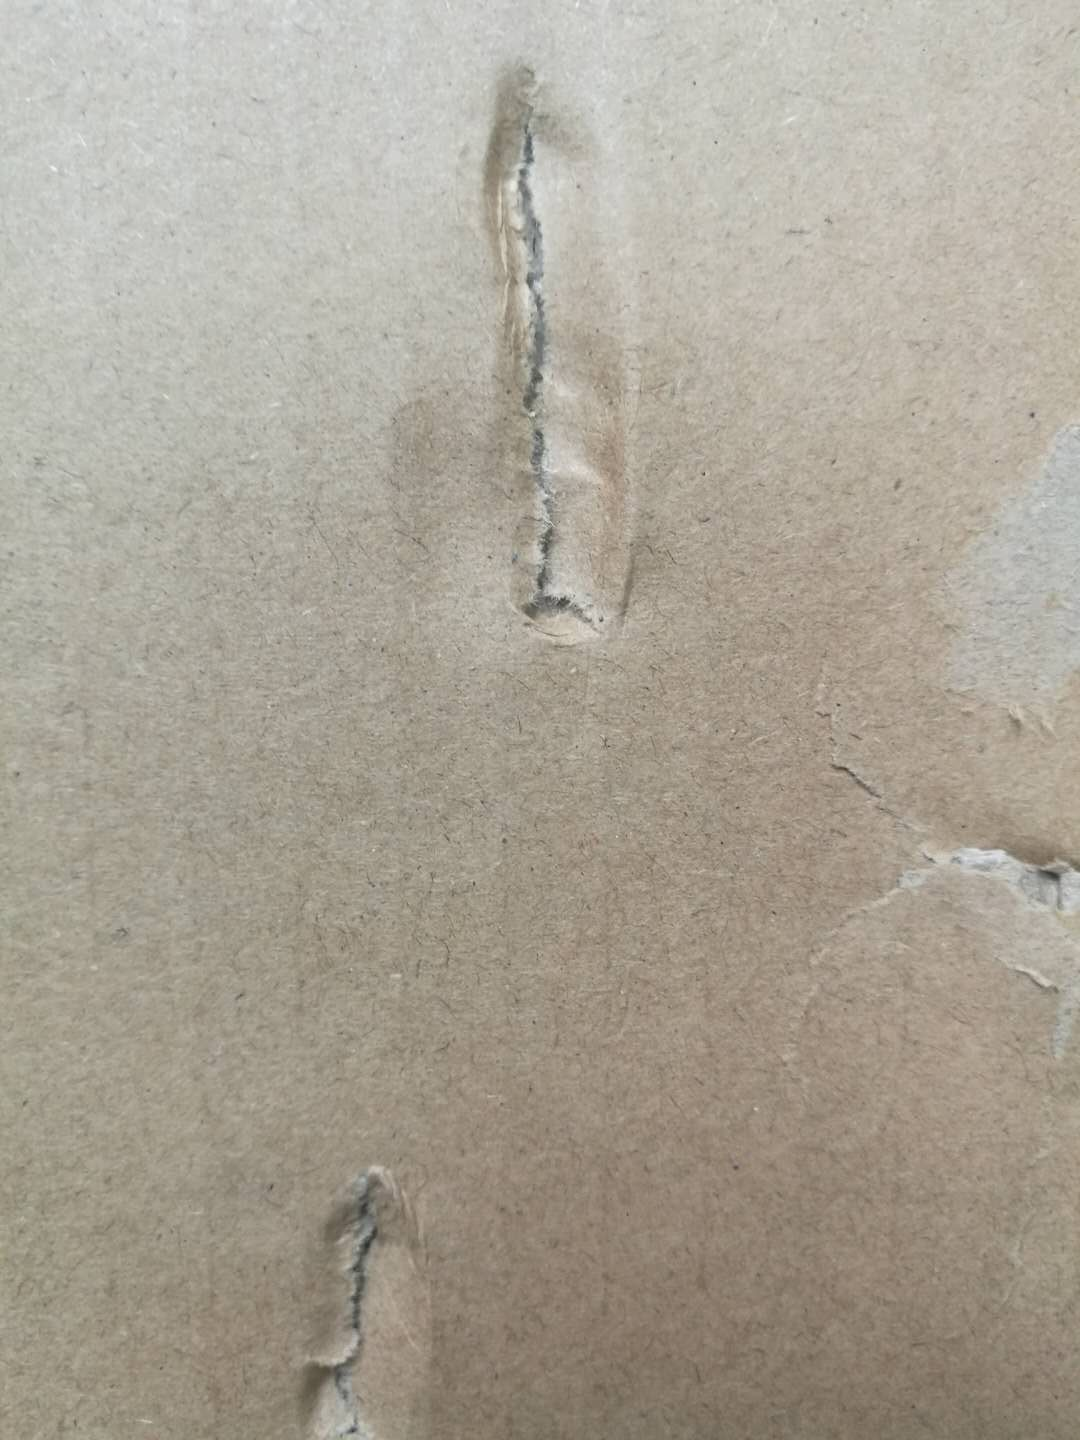defect: (360, 42, 694, 681), (786, 650, 1080, 1095), (919, 387, 1080, 757), (265, 1147, 454, 1440)
